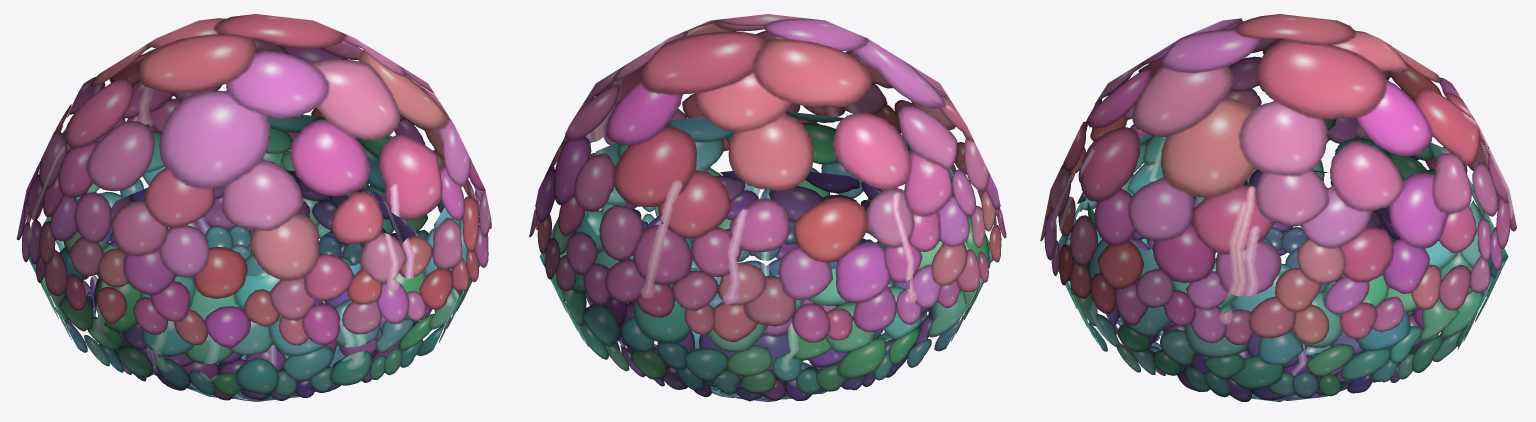
File: bushes_01.fbx
3 views of the same model, side by side, from view 1: azimuth 30°, elevation 25°; view 2: azimuth 150°, elevation 25°; view 3: azimuth 270°, elevation 25° (orthographic).
Parts seen in each view (by area): view 1: bushes_01; view 2: bushes_01; view 3: bushes_01.
Boxes of the visible parts, <box> form: bushes_01: <box>16,14,491,401</box>; bushes_01: <box>529,14,1006,401</box>; bushes_01: <box>1040,14,1516,401</box>.
Bounding box in the file's own units: 173 × 133 × 173.
